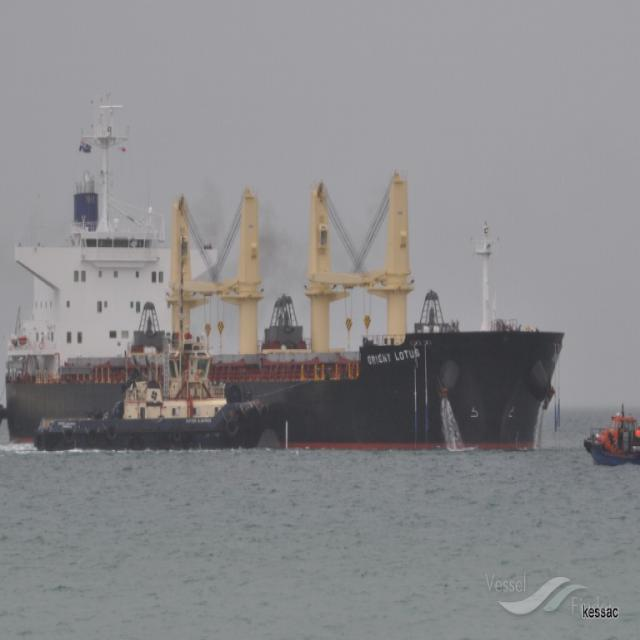OCR: (359, 346, 423, 373)
